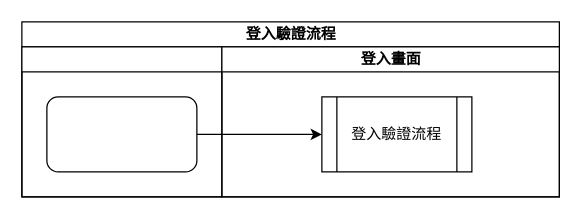
This 581x219 diagram has some shape labels left out. The box of each missing label's shape, as (x1, y1, x2, y2) in pixels:
使用者: (21, 46, 222, 197)
駐留欄位.帳號 鍵盤輸入ENTER: (46, 96, 197, 172)
